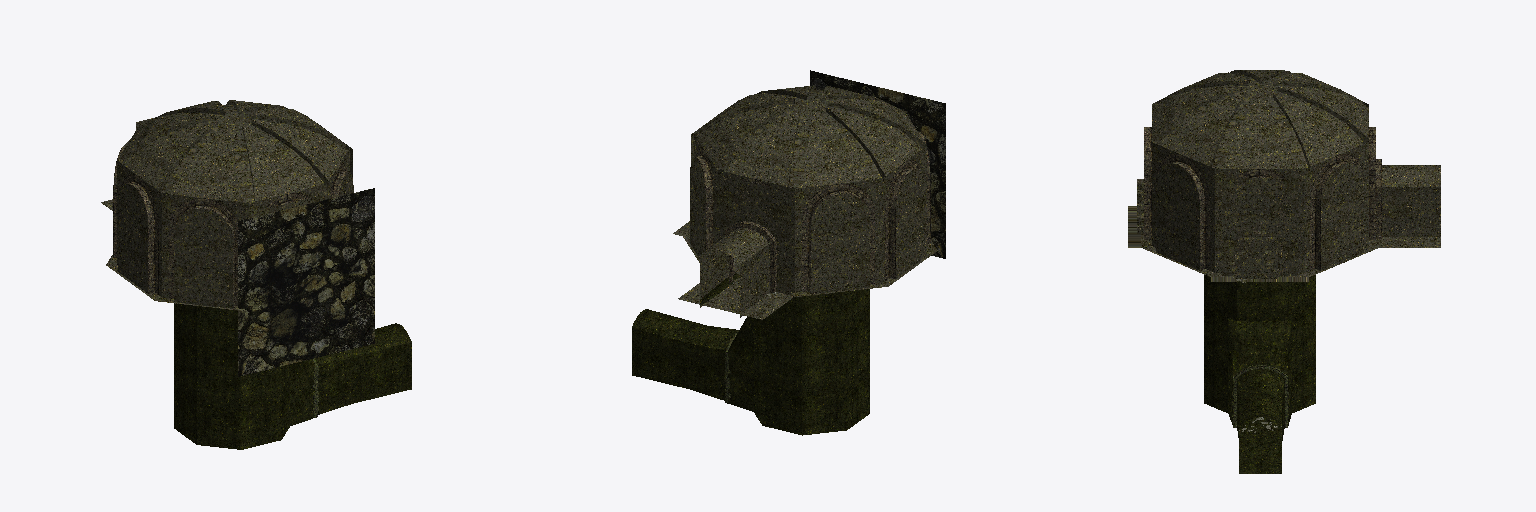
3 views of the same model, side by side, from view 1: azimuth 30°, elevation 25°; view 2: azimuth 150°, elevation 25°; view 3: azimuth 270°, elevation 25° (orthographic).
Visible parts, largest first — view 1: mesh9, mesh0, mesh11, mesh1, mesh2, mesh3; view 2: mesh9, mesh11, mesh2, mesh1, mesh0, mesh10, mesh3; view 3: mesh9, mesh11, mesh1, mesh2, mesh3, mesh10, mesh12, mesh8, mesh4.
Boxes of the visible parts, <box> form: mesh9: <box>117,100,353,308</box>; mesh0: <box>238,188,374,376</box>; mesh11: <box>174,303,411,449</box>; mesh1: <box>119,100,345,202</box>; mesh2: <box>113,146,347,307</box>; mesh3: <box>290,359,315,425</box>; mesh9: <box>690,86,926,317</box>; mesh11: <box>632,289,869,435</box>; mesh2: <box>696,131,930,293</box>; mesh1: <box>698,85,924,188</box>; mesh0: <box>810,70,945,258</box>; mesh10: <box>673,221,937,319</box>; mesh3: <box>727,316,753,411</box>; mesh9: <box>1137,70,1440,276</box>; mesh11: <box>1204,275,1315,440</box>; mesh1: <box>1152,70,1368,278</box>; mesh2: <box>1144,127,1381,270</box>; mesh3: <box>1228,318,1291,425</box>; mesh10: <box>1128,206,1440,281</box>; mesh12: <box>1246,417,1274,473</box>; mesh8: <box>1239,421,1281,473</box>; mesh4: <box>1232,365,1288,427</box>.
Size of the model in its own units: 11.05 by 11.98 by 11.36.
Materials: 13 (7 with a texture image).